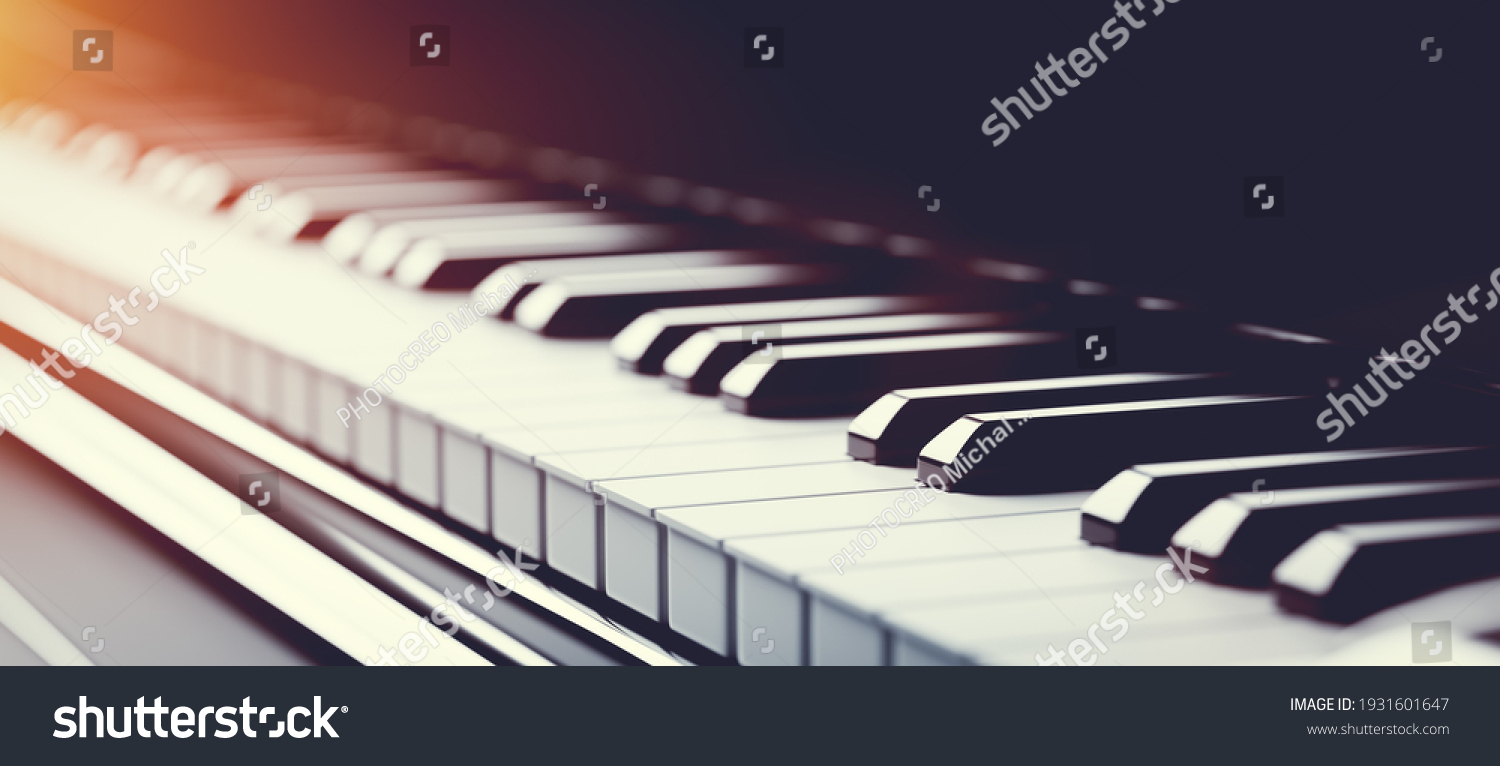Piano: (1, 1, 1490, 673)
